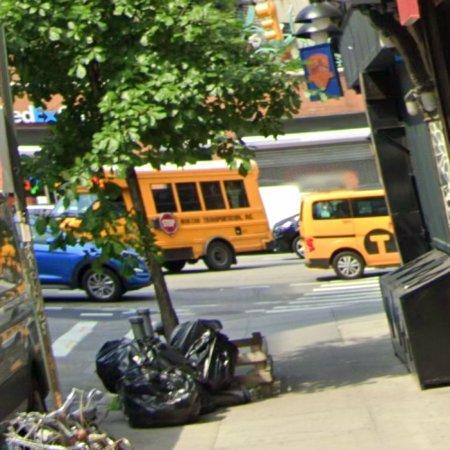buses: (136, 161, 272, 271)
